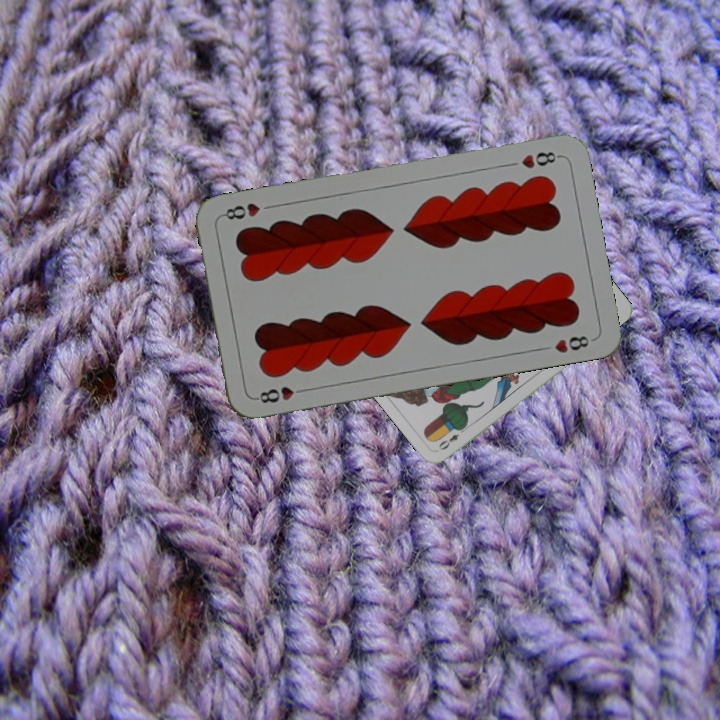EO: (434, 423, 469, 453)
H8: (251, 382, 310, 406), (517, 147, 563, 171)
